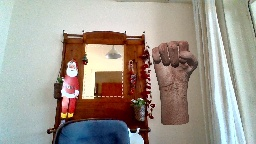Pugno: (149, 38, 200, 88)
